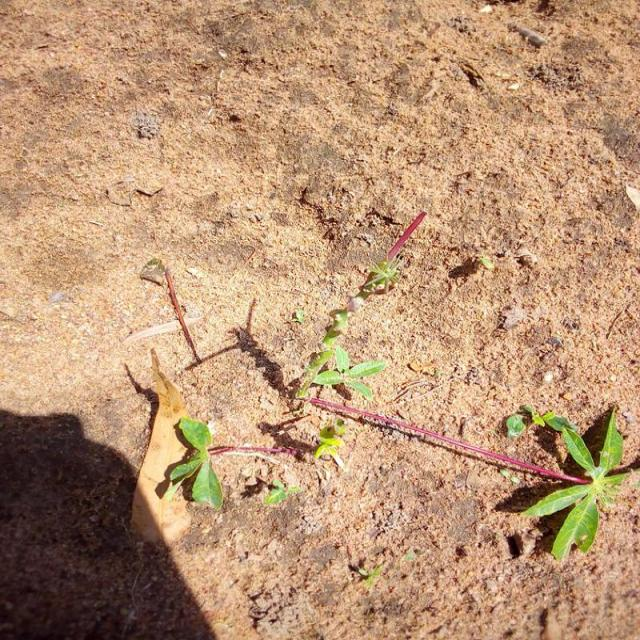cassava leaf: (520, 402, 630, 560), (164, 415, 225, 510)
